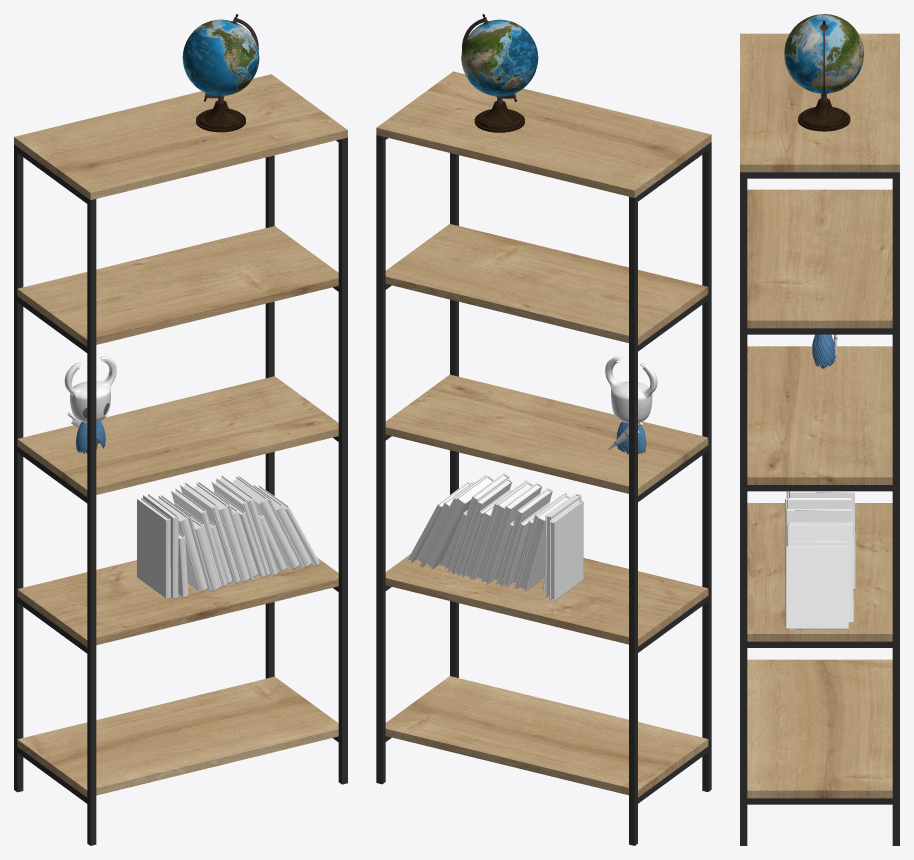
The model's file is shelf.glb.
3 renders of one model, left to right at view 1: azimuth 30°, elevation 25°; view 2: azimuth 150°, elevation 25°; view 3: azimuth 270°, elevation 25°, orthographic. The views are drawn at different scales.
Visible parts, largest first — view 1: Shelf_Planks, Shelf_Sides, Globe, Cube.085, Shelf_HK, Cube.104, Cube.090, Cube.097, Cube.093, Cube.086, Cube.098, Cube.100 (+2 smaller); view 2: Shelf_Planks, Shelf_Sides, Globe, Cube.085, Shelf_HK, Cube.090, Cube.104, Cube.097, Cube.098, Cube.093, Cube.099, Cube.100 (+1 smaller); view 3: Shelf_Planks, Shelf_Sides, Globe, Cube.105, Cube.103, Cube.100, Shelf_HK, Cube.094, Cube.097, Cube.102.
Part boxes in pixels (left/top/right/bottom): Shelf_Planks: left=14, top=74, right=347, bottom=797; Shelf_Sides: left=14, top=137, right=347, bottom=845; Globe: left=182, top=14, right=259, bottom=132; Cube.085: left=137, top=497, right=170, bottom=598; Shelf_HK: left=64, top=356, right=116, bottom=453; Cube.104: left=232, top=476, right=300, bottom=570; Cube.090: left=157, top=496, right=207, bottom=592; Cube.097: left=180, top=482, right=240, bottom=583; Cube.093: left=194, top=483, right=250, bottom=582; Cube.086: left=143, top=494, right=178, bottom=598; Cube.098: left=171, top=488, right=227, bottom=587; Cube.100: left=216, top=475, right=278, bottom=576; Shelf_Planks: left=376, top=71, right=711, bottom=797; Shelf_Sides: left=376, top=135, right=711, bottom=845; Globe: left=461, top=14, right=538, bottom=132; Cube.085: left=549, top=500, right=583, bottom=601; Shelf_HK: left=605, top=357, right=657, bottom=454; Cube.090: left=517, top=495, right=570, bottom=591; Cube.104: left=423, top=475, right=493, bottom=570; Cube.097: left=481, top=483, right=542, bottom=584; Cube.098: left=496, top=488, right=552, bottom=587; Cube.093: left=474, top=482, right=533, bottom=581; Cube.099: left=453, top=478, right=512, bottom=576; Cube.100: left=447, top=473, right=509, bottom=574; Shelf_Planks: left=740, top=33, right=899, bottom=798; Shelf_Sides: left=740, top=172, right=899, bottom=845; Globe: left=784, top=14, right=863, bottom=131; Cube.105: left=785, top=546, right=848, bottom=629; Cube.103: left=787, top=524, right=853, bottom=622; Cube.100: left=785, top=509, right=851, bottom=546; Shelf_HK: left=812, top=334, right=837, bottom=370; Cube.094: left=787, top=499, right=852, bottom=515; Cube.097: left=789, top=491, right=855, bottom=589; Cube.102: left=787, top=541, right=846, bottom=546.
Size of the model in its own units: 0.7795 by 2.19 by 0.4016.
8 materials, 2 textured.
